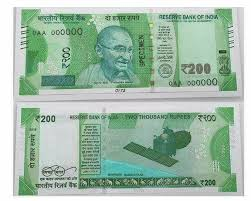twoHundred: (33, 25, 222, 79)
